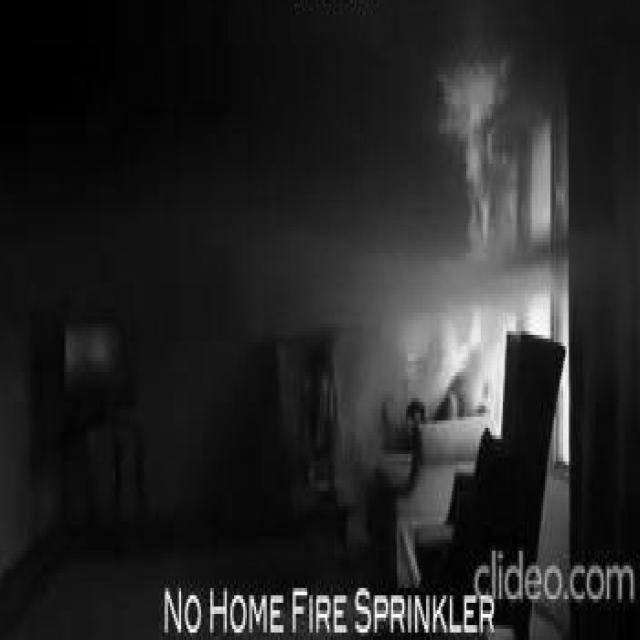smoke: (432, 52, 510, 261), (434, 309, 484, 391)
